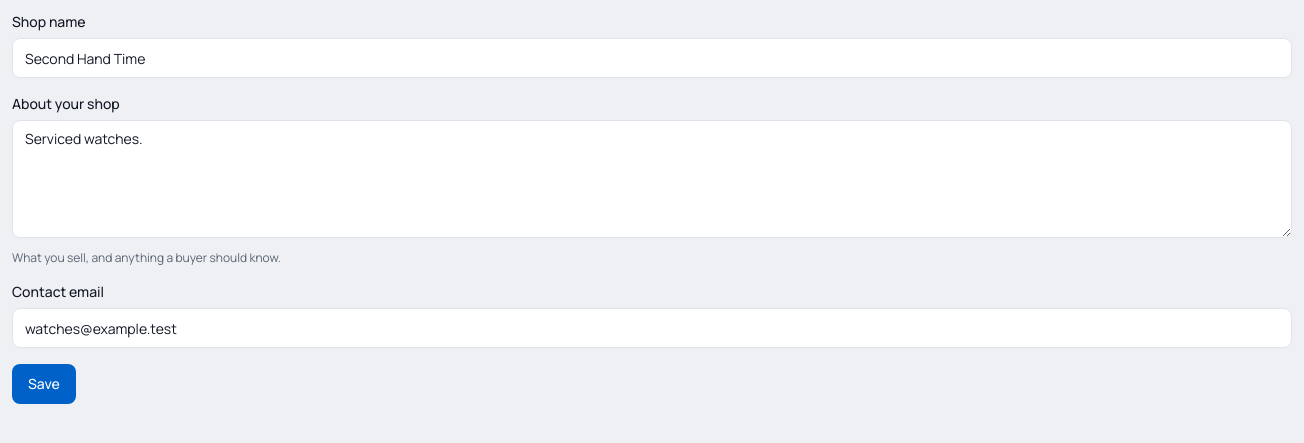
Scenario: ShopDetailsForm › puts the API's refusal beside the field, and does not say it saved
Step 1. Replace the text in the field labelled "Contact email" with "not an address" → (652,328), box [12, 308, 1292, 348]
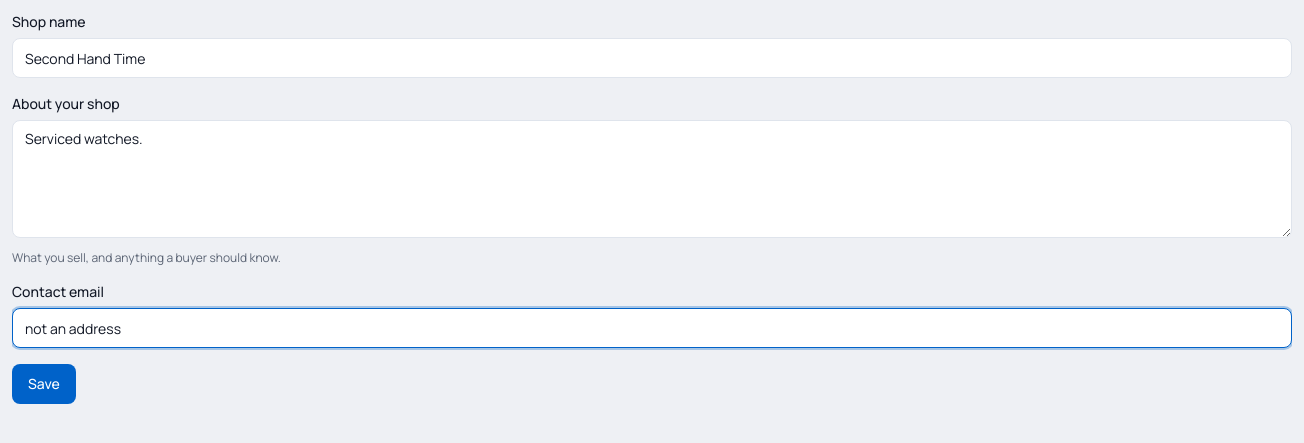
Step 2. Click the button "Save" → (44,384), box [12, 364, 76, 404]
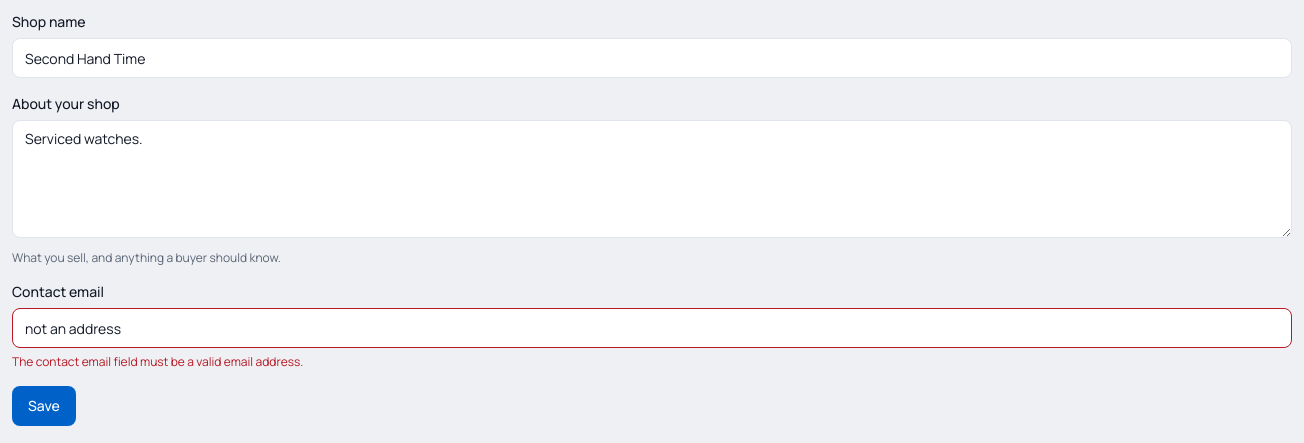
Now the list item "The contact email field must be a valid email address." is shown, box [12, 353, 303, 370]
